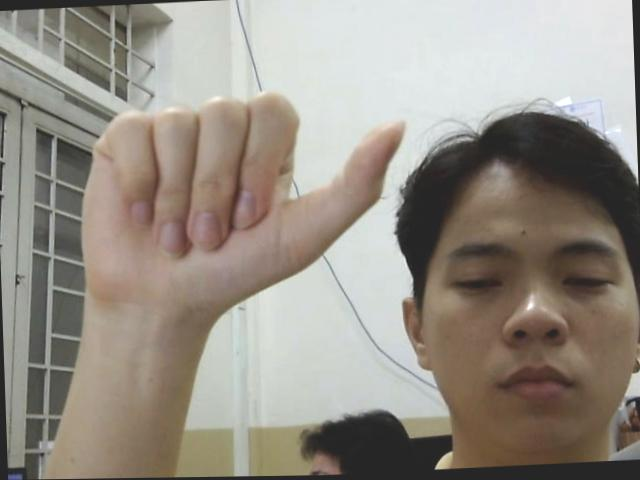A: (76, 90, 416, 305)
